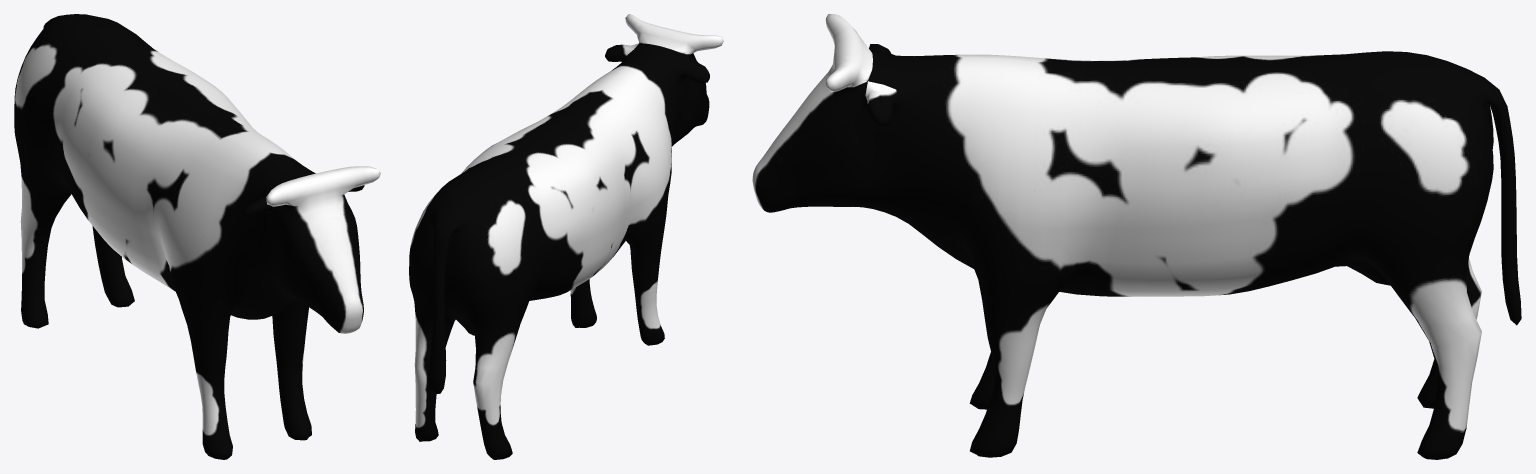
Rendered from milkcow.fbx.
3 views of the same model, side by side, from view 1: azimuth 30°, elevation 25°; view 2: azimuth 150°, elevation 25°; view 3: azimuth 270°, elevation 25° (orthographic). The views are drawn at different scales.
Parts seen in each view (by area): view 1: bull; view 2: bull; view 3: bull.
Part boxes in pixels (bbox=[...]): bull: bbox=[14, 14, 380, 459]; bull: bbox=[409, 14, 723, 459]; bull: bbox=[752, 14, 1521, 459].
Size of the model in its own units: 2.43 by 5.12 by 9.22.
